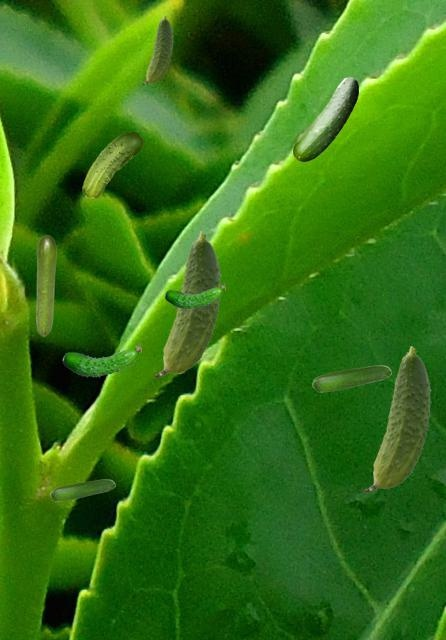cucumber: (154, 231, 220, 376), (364, 346, 430, 491), (293, 77, 357, 160), (82, 131, 142, 197), (62, 342, 140, 376), (142, 15, 172, 83), (312, 365, 390, 391), (36, 235, 55, 335), (164, 282, 224, 308), (50, 479, 114, 500)
